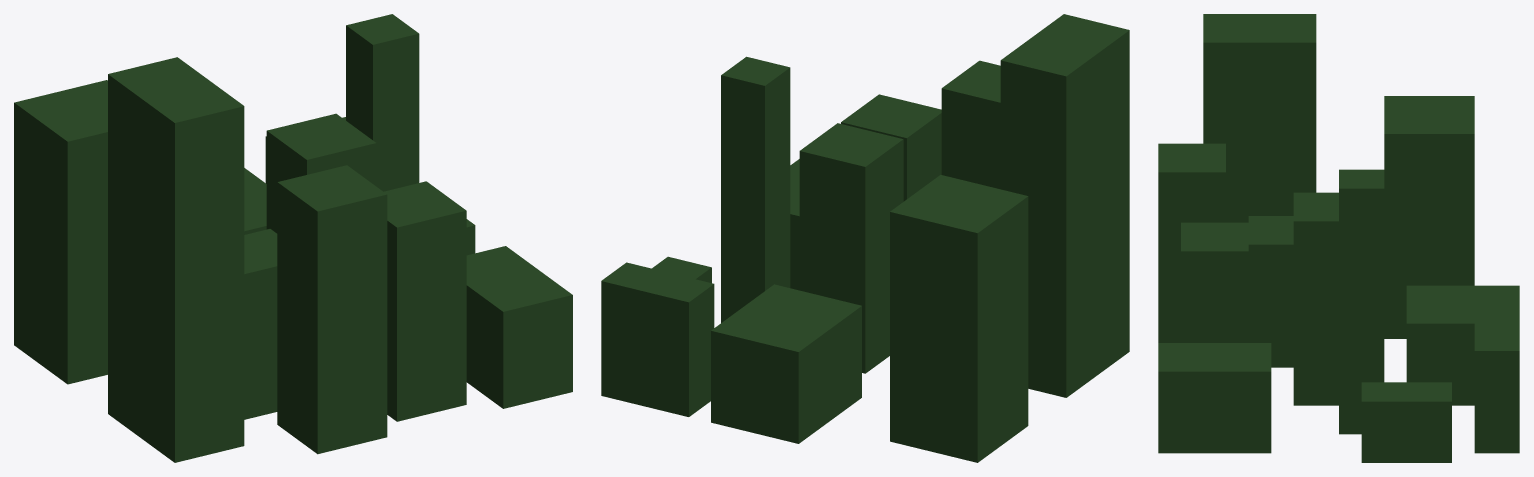
File: GGJ Grass Weed 2.obj
3 renders of one model, left to right at view 1: azimuth 30°, elevation 25°; view 2: azimuth 150°, elevation 25°; view 3: azimuth 270°, elevation 25°, orthographic. The views are drawn at different scales.
Size of the model in its own units: 1.7 by 1.4 by 1.6.
1 material, 1 textured.
